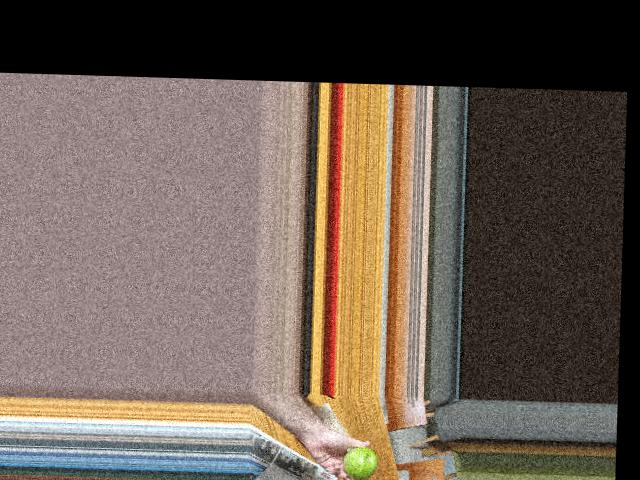apple: (340, 445, 381, 480)
